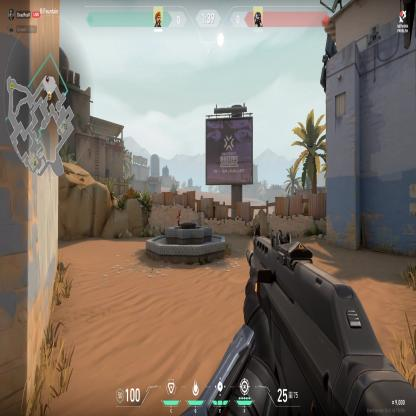enemy: (176, 209, 181, 228)
